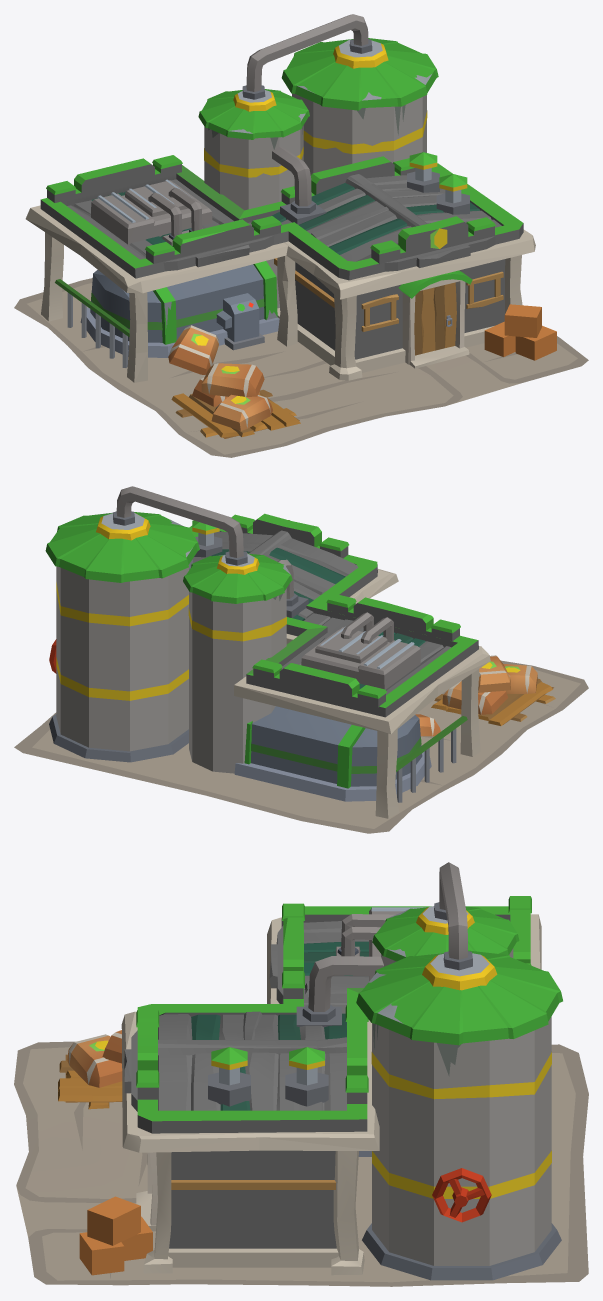
The model's file is Build_Chemical02.FBX.
3 renders of one model, top to bottom at view 1: azimuth 30°, elevation 25°; view 2: azimuth 150°, elevation 25°; view 3: azimuth 270°, elevation 25°, orthographic. The views are drawn at different scales.
Parts seen in each view (by area): view 1: Build_Chemical02, Build_Chemical02_Roof01, Build_Chemical02_Warehouse01, Build_Chemical02_Warehouse02, Build_Chemical02_Roof02, Build_Chemical02_Box01, Build_Chemical02_Pipe01, Build_Chemical02_Pipe02, Build_Chemical02_Pipe03, Build_Chemical02_Box03, Build_Chemical02_Box02; view 2: Build_Chemical02, Build_Chemical02_Warehouse01, Build_Chemical02_Warehouse02, Build_Chemical02_Roof01, Build_Chemical02_Box01, Build_Chemical02_Roof02, Build_Chemical02_Pipe01, Build_Chemical02_Pipe03, Build_Chemical02_Box03; view 3: Build_Chemical02, Build_Chemical02_Warehouse01, Build_Chemical02_Roof01, Build_Chemical02_Roof02, Build_Chemical02_Pipe01, Build_Chemical02_Pipe02, Build_Chemical02_Box02, Build_Chemical02_Box03, Build_Chemical02_Fan, Build_Chemical02_Pipe03.
Part boxes in pixels (x1=…): Build_Chemical02: x1=14, y1=155, x2=588, y2=457; Build_Chemical02_Roof01: x1=281, y1=38, x2=438, y2=110; Build_Chemical02_Warehouse01: x1=292, y1=93, x2=427, y2=175; Build_Chemical02_Warehouse02: x1=204, y1=125, x2=303, y2=308; Build_Chemical02_Roof02: x1=198, y1=89, x2=309, y2=139; Build_Chemical02_Box01: x1=91, y1=179, x2=212, y2=244; Build_Chemical02_Pipe01: x1=242, y1=14, x2=372, y2=99; Build_Chemical02_Pipe02: x1=272, y1=147, x2=315, y2=213; Build_Chemical02_Pipe03: x1=148, y1=187, x2=202, y2=245; Build_Chemical02_Box03: x1=436, y1=174, x2=469, y2=214; Build_Chemical02_Box02: x1=407, y1=152, x2=439, y2=192; Build_Chemical02: x1=14, y1=513, x2=588, y2=833; Build_Chemical02_Warehouse01: x1=49, y1=564, x2=189, y2=762; Build_Chemical02_Warehouse02: x1=188, y1=588, x2=286, y2=773; Build_Chemical02_Roof01: x1=45, y1=512, x2=199, y2=582; Build_Chemical02_Box01: x1=301, y1=626, x2=420, y2=689; Build_Chemical02_Roof02: x1=183, y1=553, x2=292, y2=603; Build_Chemical02_Pipe01: x1=113, y1=486, x2=247, y2=565; Build_Chemical02_Pipe03: x1=341, y1=612, x2=393, y2=643; Build_Chemical02_Box03: x1=192, y1=520, x2=222, y2=557; Build_Chemical02: x1=14, y1=896, x2=588, y2=1286; Build_Chemical02_Warehouse01: x1=362, y1=1016, x2=561, y2=1280; Build_Chemical02_Roof01: x1=356, y1=950, x2=562, y2=1045; Build_Chemical02_Roof02: x1=372, y1=906, x2=519, y2=961; Build_Chemical02_Pipe01: x1=434, y1=862, x2=472, y2=970; Build_Chemical02_Pipe02: x1=302, y1=956, x2=383, y2=1021; Build_Chemical02_Box02: x1=285, y1=1047, x2=328, y2=1106; Build_Chemical02_Box03: x1=208, y1=1047, x2=250, y2=1106; Build_Chemical02_Fan: x1=432, y1=1168, x2=491, y2=1222; Build_Chemical02_Pipe03: x1=335, y1=914, x2=395, y2=956.
Size of the model in its own units: 854 by 528 by 843.
Materials: 1 (1 with a texture image).
